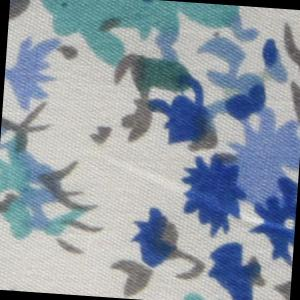Wrinkle: (73, 141, 300, 243)
